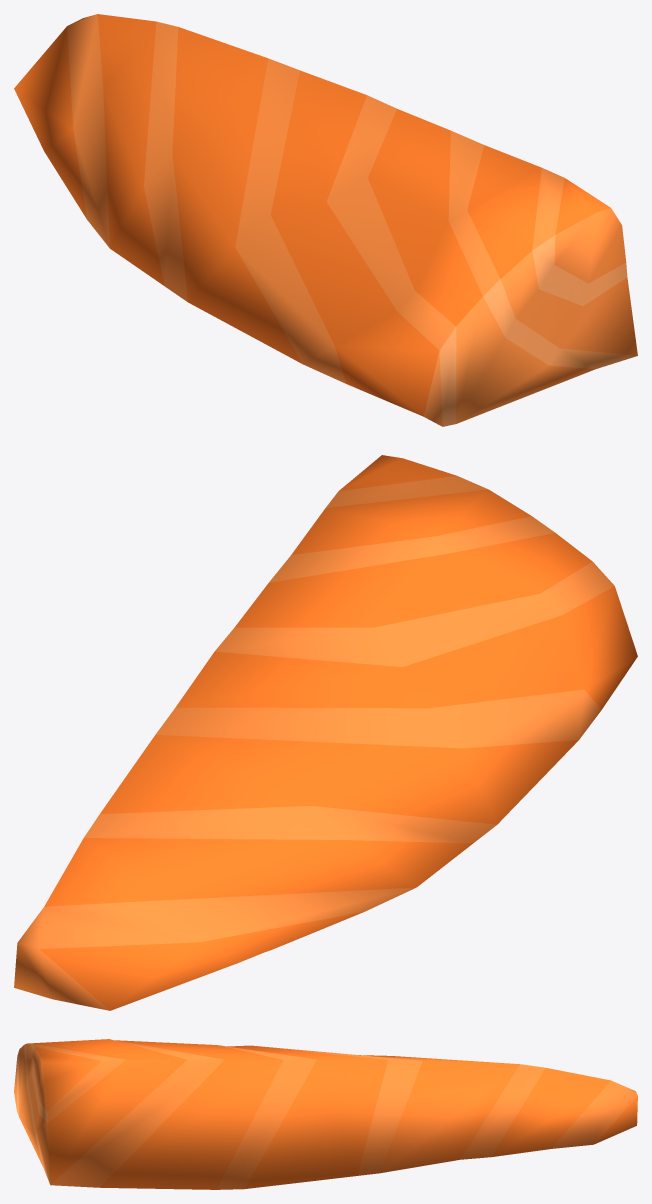
The model's file is Salmon_Filet_003.gltf.
3 views of the same model, one above another, from view 1: azimuth 30°, elevation 25°; view 2: azimuth 150°, elevation 25°; view 3: azimuth 270°, elevation 25° (orthographic). The views are drawn at different scales.
Parts seen in each view (by area): view 1: Salmon_Filet_003_x; view 2: Salmon_Filet_003_x; view 3: Salmon_Filet_003_x.
Boxes of the visible parts, x1,y1,x2,y2 form: Salmon_Filet_003_x: (14, 14, 637, 426); Salmon_Filet_003_x: (14, 455, 637, 1010); Salmon_Filet_003_x: (14, 1039, 637, 1189).
Size of the model in its own units: 0.6488 by 0.3572 by 1.68.
1 material, 1 textured.
